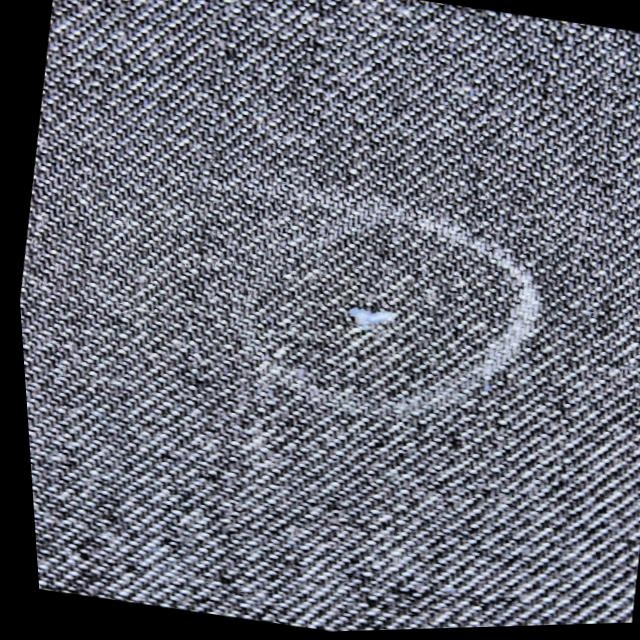Hole: (311, 275, 430, 355)
